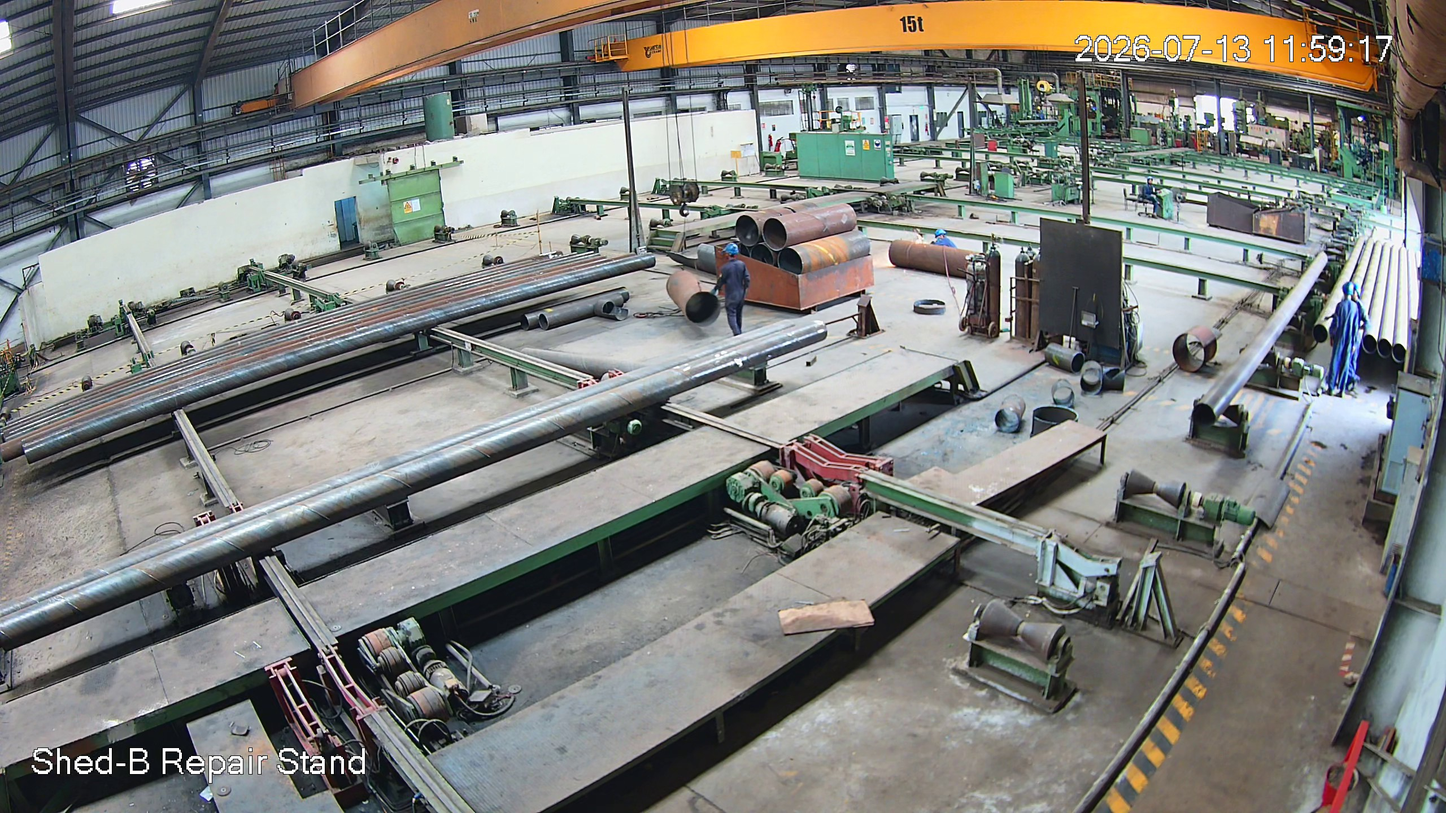Helmet: (1340, 282, 1359, 309)
Person: (1333, 283, 1369, 396)
